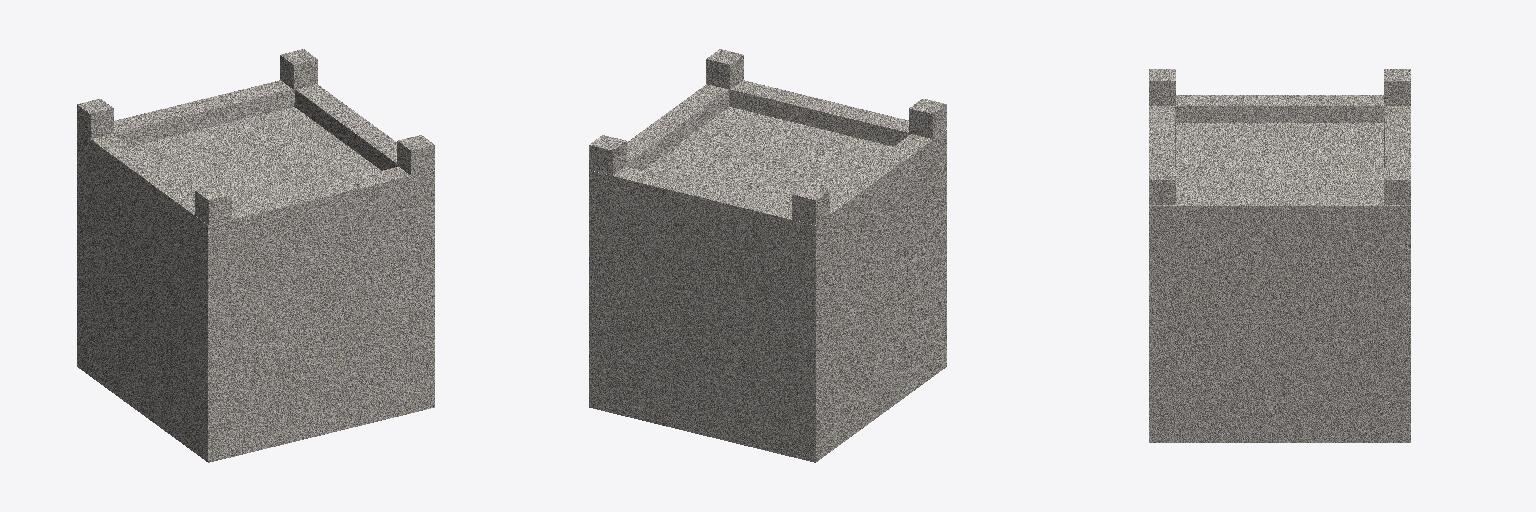
The picture shows the model from 3 angles: view 1: azimuth 30°, elevation 25°; view 2: azimuth 150°, elevation 25°; view 3: azimuth 270°, elevation 25°; orthographic projection.
Visible parts, largest first — view 1: Cube.003; view 2: Cube.003; view 3: Cube.003.
Boxes of the visible parts, box(x1,y1,x2,y2) form: Cube.003: box(77, 49, 434, 462); Cube.003: box(589, 49, 946, 462); Cube.003: box(1149, 69, 1410, 442).
Bounding box in the file's own units: 2.01 × 2.21 × 2.
Materials: 1 (1 with a texture image).